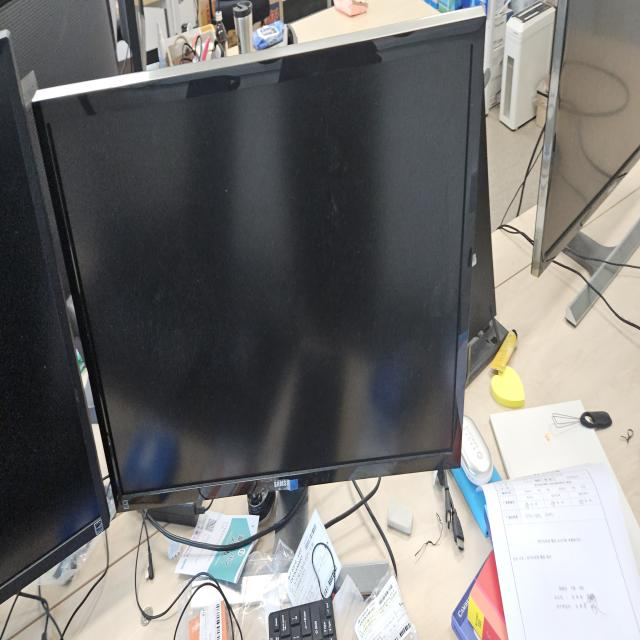Monitor: (29, 7, 498, 526)
